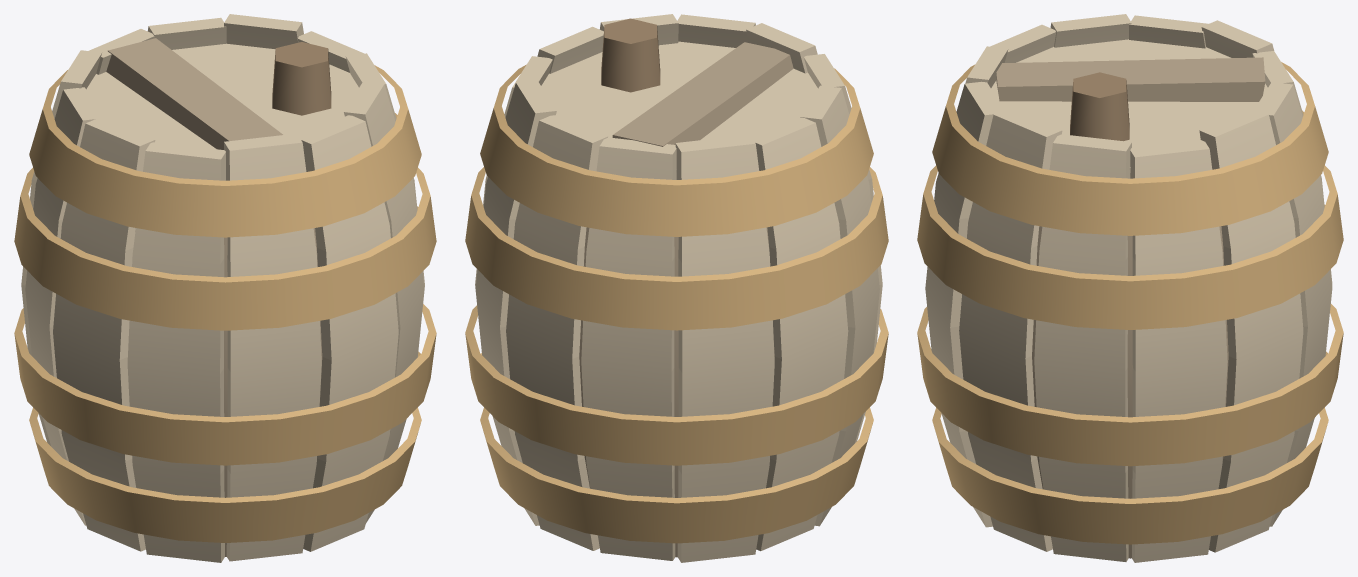
The model's file is building.barrel.glb.
The picture shows the model from 3 angles, left to right: view 1: azimuth 30°, elevation 25°; view 2: azimuth 150°, elevation 25°; view 3: azimuth 270°, elevation 25°; orthographic projection.
Visible parts, largest first — view 1: Paint, Bronze, PaintDark, Wood; view 2: Paint, Bronze, PaintDark, Wood; view 3: Paint, Bronze, PaintDark, Wood.
Part boxes in pixels (box(x1,y1,x2,y2)): Paint: box(21, 14, 424, 562); Bronze: box(14, 65, 436, 542); PaintDark: box(106, 38, 322, 556); Wood: box(272, 42, 331, 115); Paint: box(475, 14, 882, 562); Bronze: box(465, 64, 888, 543); PaintDark: box(579, 42, 793, 557); Wood: box(601, 18, 660, 92); Paint: box(925, 14, 1332, 562); Bronze: box(917, 62, 1343, 544); PaintDark: box(996, 57, 1265, 558); Wood: box(1070, 72, 1129, 141).
Bounding box in the file's own units: 0.418 × 0.475 × 0.418.
